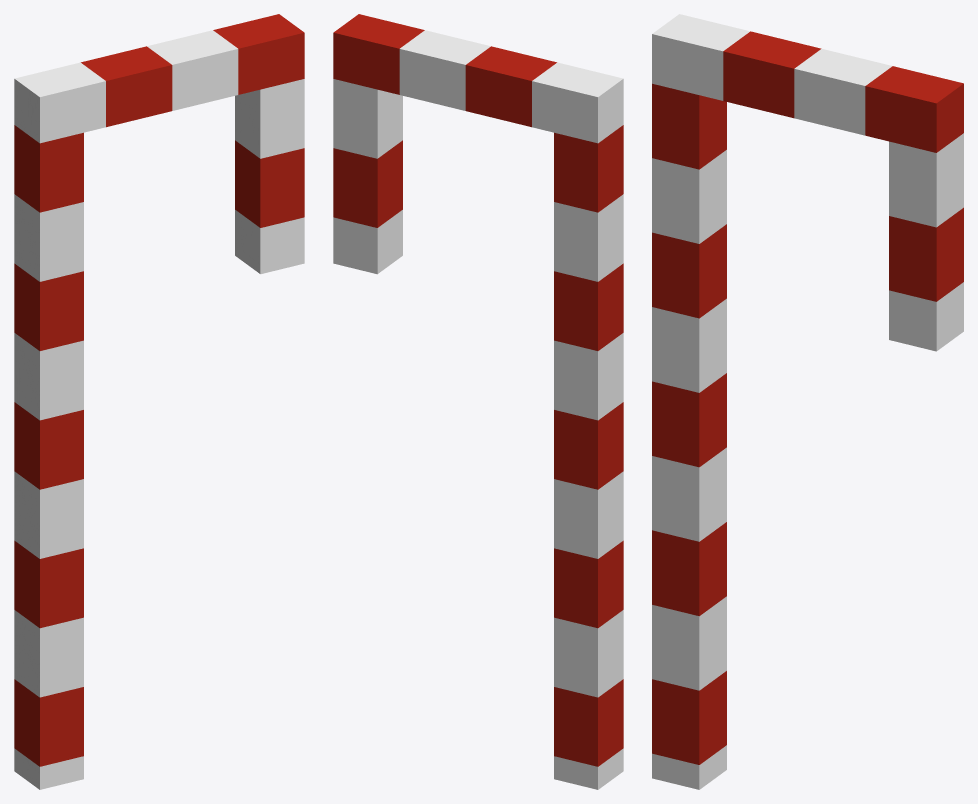
Rendered from CandylandStick.fbx.
3 views of the same model, side by side, from view 1: azimuth 30°, elevation 25°; view 2: azimuth 150°, elevation 25°; view 3: azimuth 330°, elevation 25° (orthographic). The views are drawn at different scales.
Visible parts, largest first — view 1: CandylandStick; view 2: CandylandStick; view 3: CandylandStick.
Part boxes in pixels (<box>): CandylandStick: <box>14,14,304,789</box>; CandylandStick: <box>333,14,623,789</box>; CandylandStick: <box>652,14,963,789</box>.
Size of the model in its own units: 0.54 by 1.35 by 0.09.
